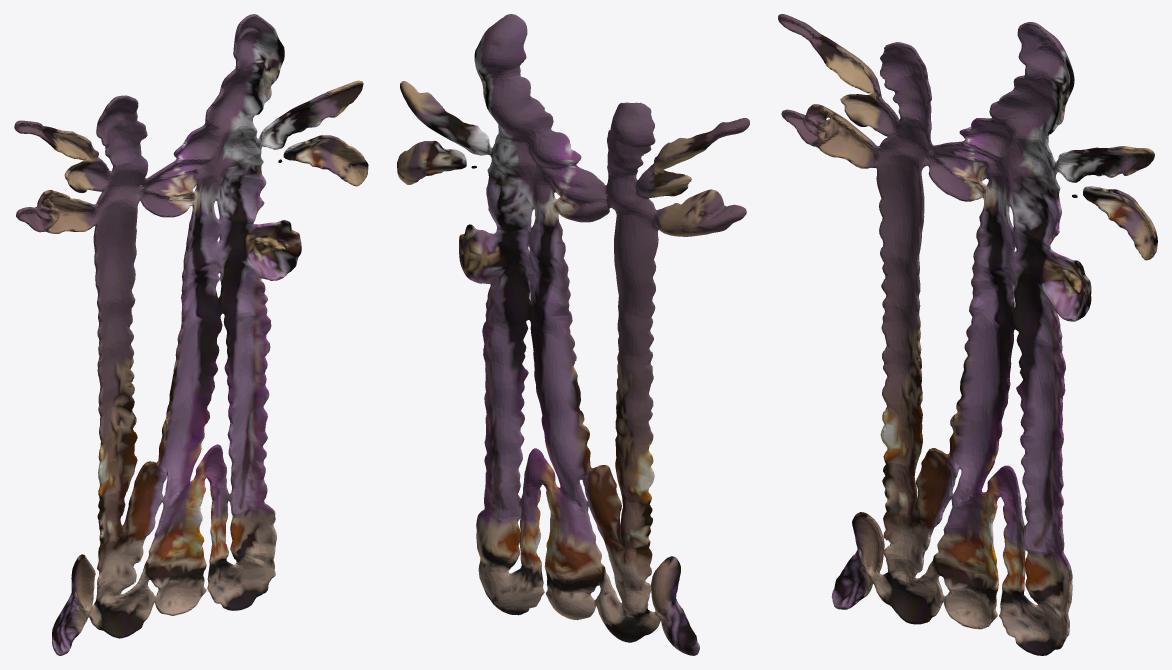
File: dokkaebiGeneral.glb
3 renders of one model, left to right at view 1: azimuth 30°, elevation 25°; view 2: azimuth 150°, elevation 25°; view 3: azimuth 330°, elevation 25°, orthographic. The views are drawn at different scales.
Parts seen in each view (by area): view 1: world; view 2: world; view 3: world.
Boxes of the visible parts, box(x1,y1,x2,y2) form: world: box(14, 14, 368, 655); world: box(397, 14, 749, 655); world: box(778, 14, 1157, 655).
Size of the model in its own units: 0.6188 by 1 by 0.0564.
